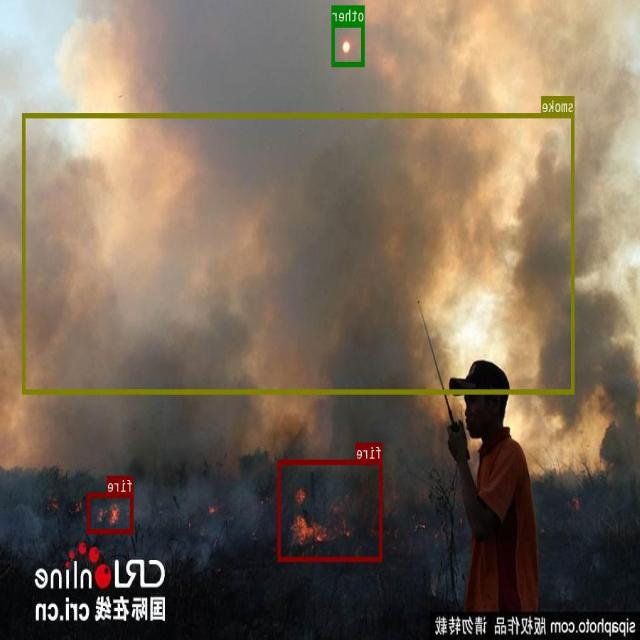fire: (278, 459, 383, 561), (88, 492, 134, 533)
other: (332, 22, 366, 66)
smoke: (23, 112, 575, 393)
